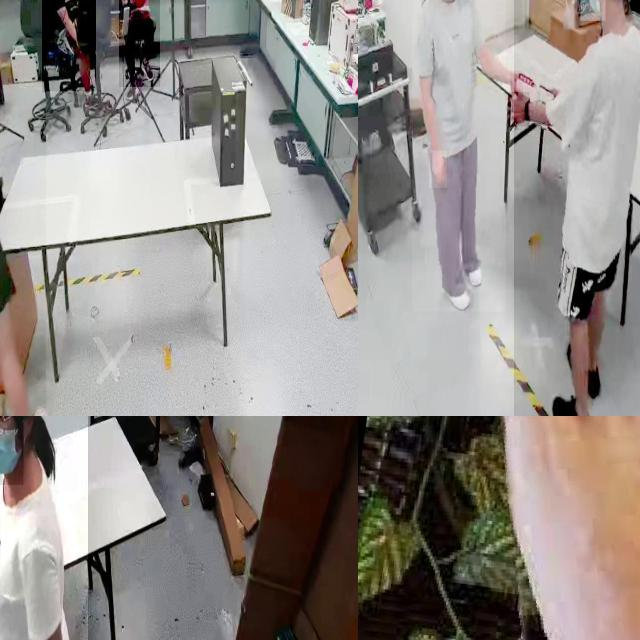Barefoots: (436, 416, 640, 640)
face_mask: (0, 416, 23, 485), (580, 0, 605, 20)
hand_noglove: (508, 92, 530, 127), (429, 150, 447, 188), (510, 70, 524, 100), (130, 6, 142, 15), (127, 0, 137, 7)
person: (514, 0, 640, 416), (412, 0, 506, 312), (0, 416, 88, 640), (0, 0, 46, 416), (41, 0, 96, 92), (119, 0, 160, 87)
shoes: (564, 336, 602, 398), (438, 267, 472, 311), (455, 243, 485, 289), (549, 391, 594, 416), (139, 54, 157, 84), (125, 75, 143, 105)
